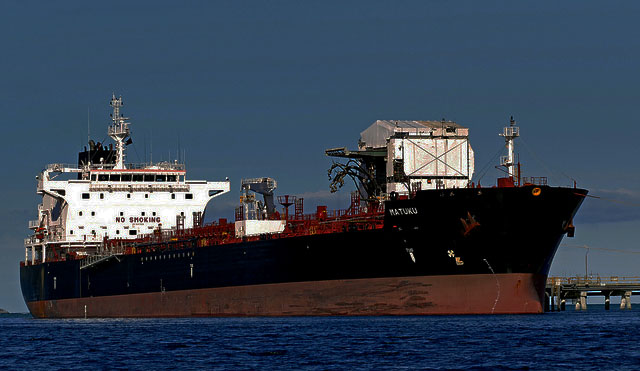tanker: (19, 93, 591, 315)
